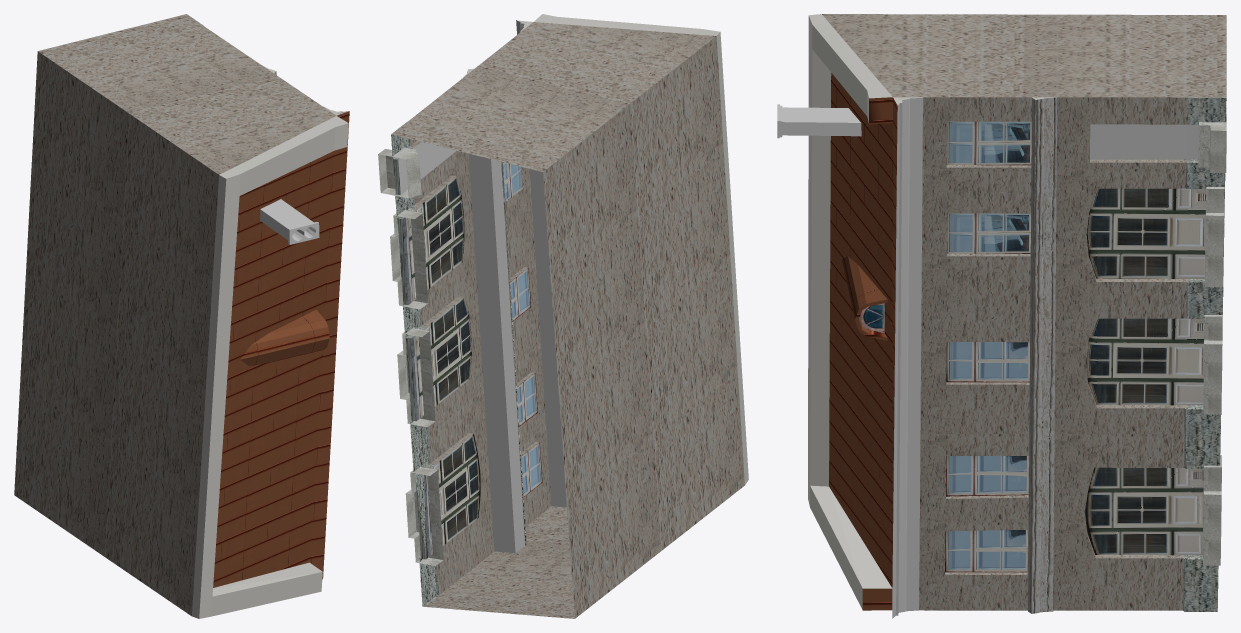
File: Uus_31.obj
3 views of the same model, side by side, from view 1: azimuth 30°, elevation 25°; view 2: azimuth 150°, elevation 25°; view 3: azimuth 270°, elevation 25° (orthographic). The views are drawn at different scales.
Parts seen in each view (by area): view 1: Uus_31; view 2: Uus_31; view 3: Uus_31.
Boxes of the visible parts, <box> form: Uus_31: <box>14,14,349,618</box>; Uus_31: <box>378,14,748,618</box>; Uus_31: <box>777,14,1226,618</box>.
Bounding box in the file's own units: 6.46 × 14.53 × 11.11.
